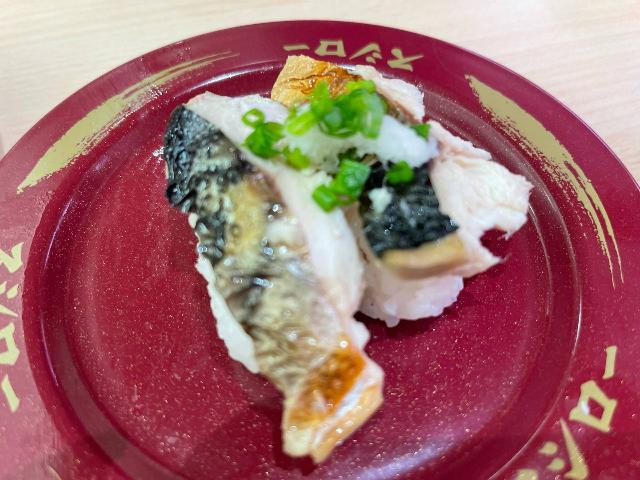janred: (13, 56, 640, 480)
